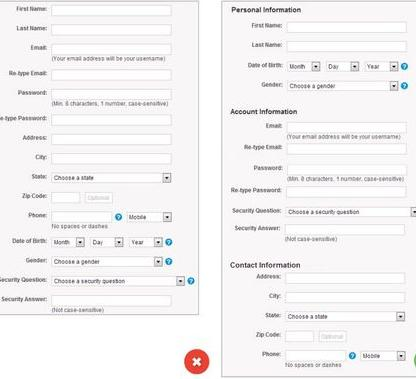field: (49, 66, 173, 83), (49, 169, 173, 186), (47, 86, 174, 101), (49, 22, 174, 37), (284, 141, 409, 156), (49, 40, 173, 55), (49, 113, 172, 128), (285, 20, 408, 35), (50, 274, 185, 287), (49, 3, 173, 17), (284, 185, 408, 199), (285, 162, 408, 176), (283, 271, 405, 285), (48, 294, 174, 307), (48, 152, 173, 165), (283, 223, 408, 236), (282, 291, 406, 304), (284, 120, 407, 133), (48, 133, 172, 145), (284, 40, 408, 52), (50, 255, 164, 268), (286, 80, 400, 92), (283, 311, 405, 322), (48, 209, 113, 224), (282, 349, 347, 362), (125, 210, 173, 223), (359, 349, 406, 362), (285, 60, 322, 73), (127, 236, 163, 249), (324, 60, 360, 73), (50, 236, 88, 248), (363, 60, 398, 73), (89, 237, 125, 249), (283, 330, 316, 342), (49, 192, 81, 204)
field_with_label: (6, 64, 174, 83), (231, 184, 410, 201), (250, 18, 410, 37), (243, 140, 411, 158), (0, 292, 175, 309), (31, 168, 174, 188), (15, 2, 176, 19), (15, 85, 176, 102), (14, 21, 175, 38), (251, 161, 410, 178), (234, 222, 412, 237), (255, 269, 407, 286), (27, 39, 175, 56), (264, 118, 409, 135), (251, 39, 410, 54), (18, 131, 174, 146), (23, 253, 167, 269), (261, 78, 402, 94), (268, 290, 408, 306), (33, 151, 175, 166), (265, 310, 407, 324), (27, 208, 115, 226), (261, 347, 348, 364), (247, 59, 324, 75), (10, 235, 88, 250), (22, 190, 83, 206), (256, 328, 318, 343)
